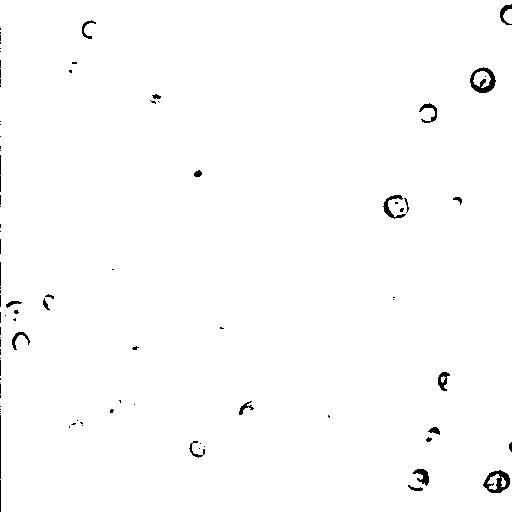micro-algae: (1, 253, 41, 313), (445, 479, 511, 512), (305, 29, 349, 70), (382, 17, 419, 57), (94, 21, 131, 59), (123, 389, 160, 425), (383, 274, 417, 309), (446, 339, 479, 369), (3, 299, 35, 329), (271, 161, 301, 190), (468, 65, 498, 93), (180, 161, 209, 188), (381, 194, 409, 221), (483, 469, 510, 495), (123, 337, 151, 361), (406, 467, 431, 493), (61, 55, 87, 79), (236, 399, 262, 423), (64, 417, 87, 444), (100, 398, 121, 421), (417, 101, 438, 123), (11, 331, 30, 353), (437, 372, 456, 393), (188, 438, 207, 458), (423, 425, 443, 444), (99, 267, 120, 285), (80, 20, 100, 38), (41, 294, 59, 312), (447, 195, 464, 211), (499, 3, 511, 25)
